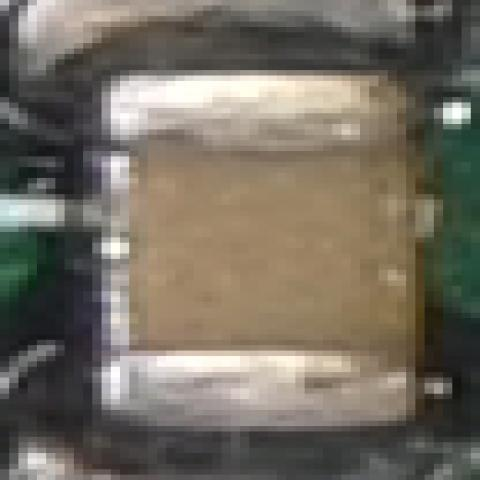Capacitor: (96, 71, 424, 430)
